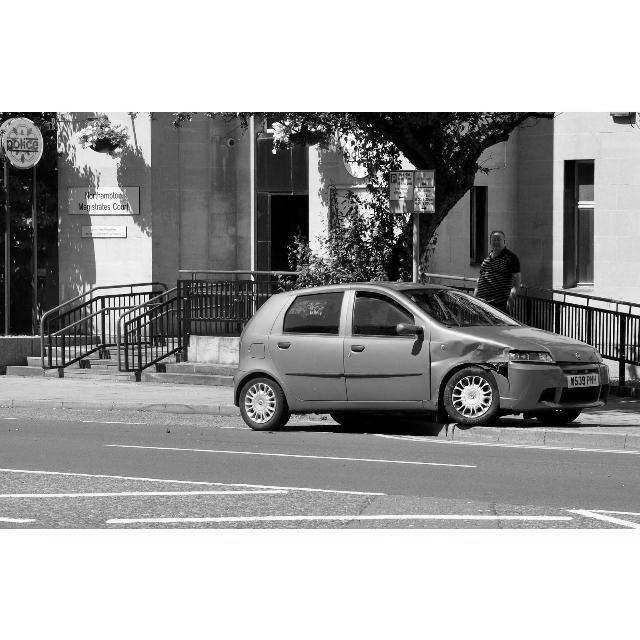Front-windscreen-damage: (399, 287, 514, 335)
bonnet-dent: (464, 327, 607, 363)
fender-dent: (432, 333, 512, 411)
